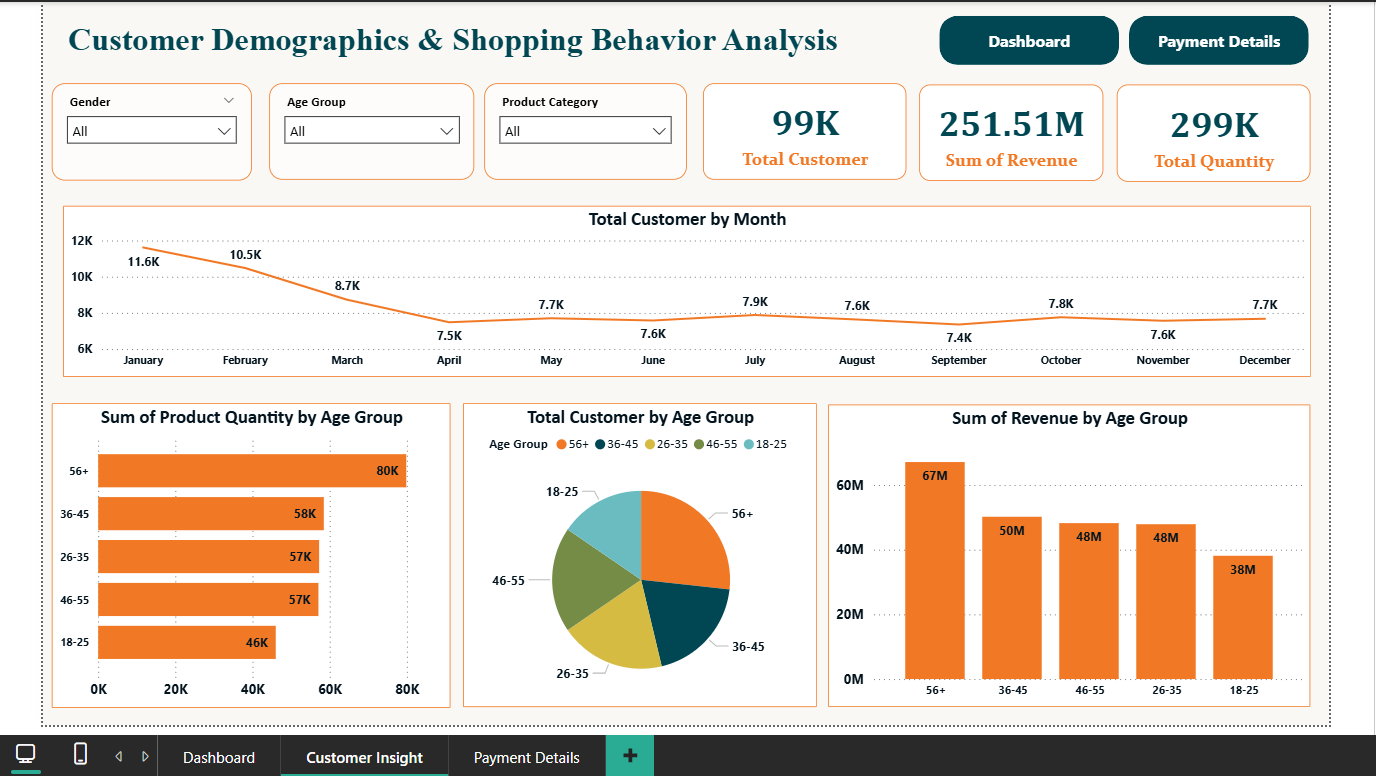

The page's visual inventory and layout, read from the dashboard file:
{"tool":"powerbi","page":{"name":"Customer Insight","canvas":[1280,720],"ordinal":1},"visuals":[{"type":"pieChart","title":"Total Customer by Age Group","fields":{"Category":["Customer_data.Age_Group"],"Y":["Customer_data.Invoice Count"]},"box":[418,399.3,352,302.3],"z":0},{"type":"barChart","title":"Sum of Product Quantity by Age Group","fields":{"Category":["Customer_data.Age_Group"],"Y":["Sum(Customer_data.Product_Quantity)"]},"box":[8.7,399.3,396.8,303.5],"z":1000},{"type":"columnChart","title":"Sum of Revenue by Age Group","fields":{"Category":["Customer_data.Age_Group"],"Y":["Sum(Customer_data.Revenue)"]},"box":[781.2,400.6,480.2,301],"z":2000},{"type":"card","fields":{"Values":["Customer_data.Invoice Count"]},"box":[656.8,80.9,202.8,95.8],"z":3000},{"type":"card","fields":{"Values":["Customer_data.Total Quantity"]},"box":[1068.6,82.1,192.8,97],"z":4000},{"type":"card","fields":{"Values":["Sum(Customer_data.Revenue)"]},"box":[872,82.1,182.9,95.8],"z":5000},{"type":"slicer","fields":{"Values":["Customer_data.Gender"]},"box":[8.7,80.9,199,97],"z":6000},{"type":"slicer","fields":{"Values":["Customer_data.Age_Group"]},"box":[225.2,80.9,204,95.8],"z":7000},{"type":"slicer","fields":{"Values":["Customer_data.Product_Category"]},"box":[439.1,80.9,201.5,95.8],"z":8000},{"type":"lineChart","fields":{"Category":["Customer_data.Invoice_Date.Variation.Date Hierarchy.Month"],"Y":["Customer_data.Total Customer"]},"box":[19.9,202.8,1241.5,170.4],"z":9000},{"type":"textbox","box":[19.9,13.7,792.4,52.2],"z":10000},{"type":"pageNavigator","box":[891.9,13.7,369.5,49.8],"z":11000}]}

Visuals, with their boxes on the page's 1280x720 design canvas (x1, y1, x2, y2). These are canvas units, not pixel positions in the 1376x776 screenshot, which may show the page scaled, cropped or inside an application window:
"Total Customer by Age Group" pieChart: (418, 399, 770, 702)
"Sum of Product Quantity by Age Group" barChart: (9, 399, 406, 703)
"Sum of Revenue by Age Group" columnChart: (781, 401, 1261, 702)
card - Customer_data.Invoice Count: (657, 81, 860, 177)
card - Customer_data.Total Quantity: (1069, 82, 1261, 179)
card - Sum(Customer_data.Revenue): (872, 82, 1055, 178)
slicer - Customer_data.Gender: (9, 81, 208, 178)
slicer - Customer_data.Age_Group: (225, 81, 429, 177)
slicer - Customer_data.Product_Category: (439, 81, 641, 177)
lineChart - Customer_data.Invoice_Date.Variation.Date Hierarchy.Month x Customer_data.Total Customer: (20, 203, 1261, 373)
textbox: (20, 14, 812, 66)
pageNavigator: (892, 14, 1261, 64)
